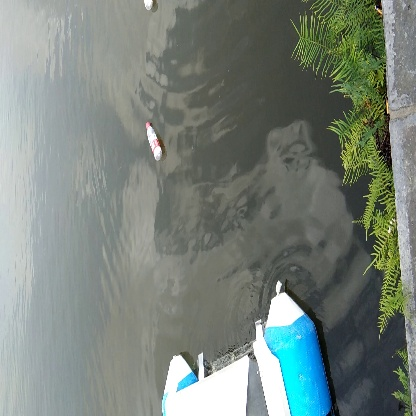bottle: (143, 122, 169, 164)
